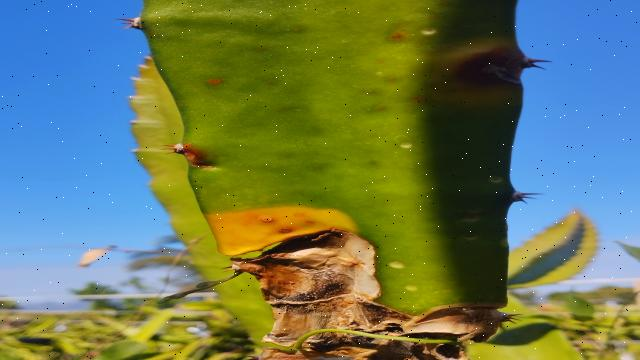stemcanker: (380, 23, 414, 45), (251, 210, 285, 232), (363, 97, 397, 118), (208, 70, 241, 91)
